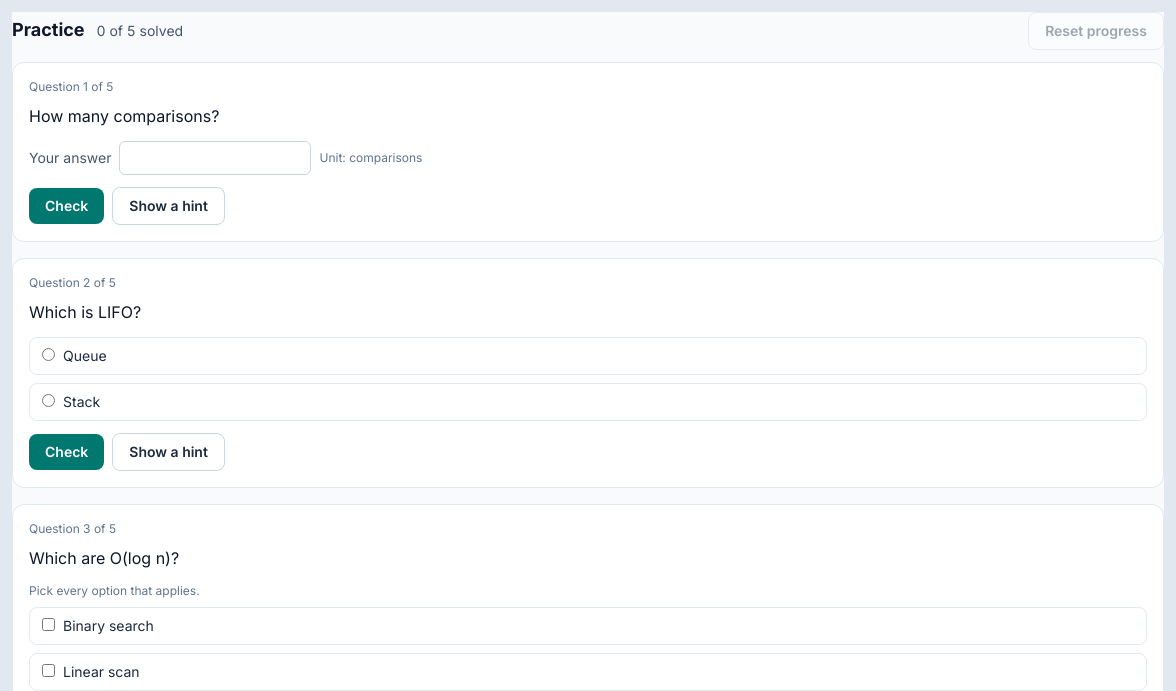
Test case: PracticeBlock › reveals hints one at a time and the solution only after a try
This screenshot has width=1176, height=691.
Step 1. Click the button "Show a hint" below "Unit: comparisons" → x=169, y=206, box x1=112 y1=187 x2=225 y2=225
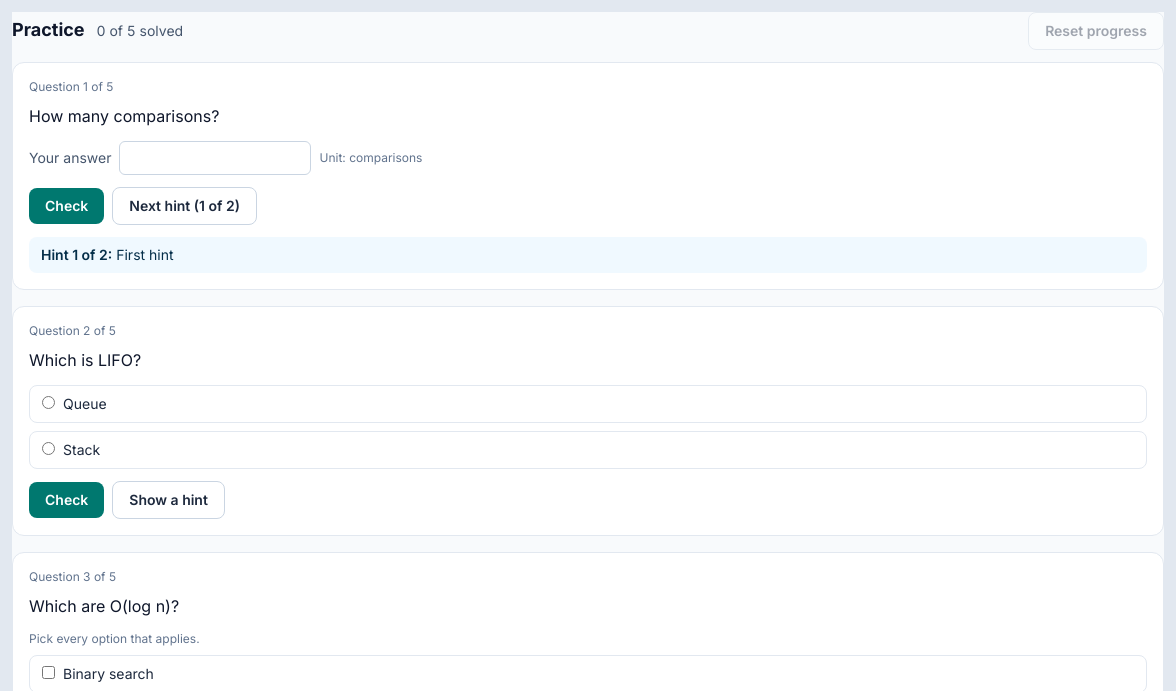
Expected: the text "Second hint" is not shown
Expected: the list item that starts with "Question 1 of 5" shows "First hint", x1=112 y1=246 x2=174 y2=263
Step 2. Click the button "Next hint (1 of 2)" → x=185, y=206, box x1=112 y1=187 x2=257 y2=225
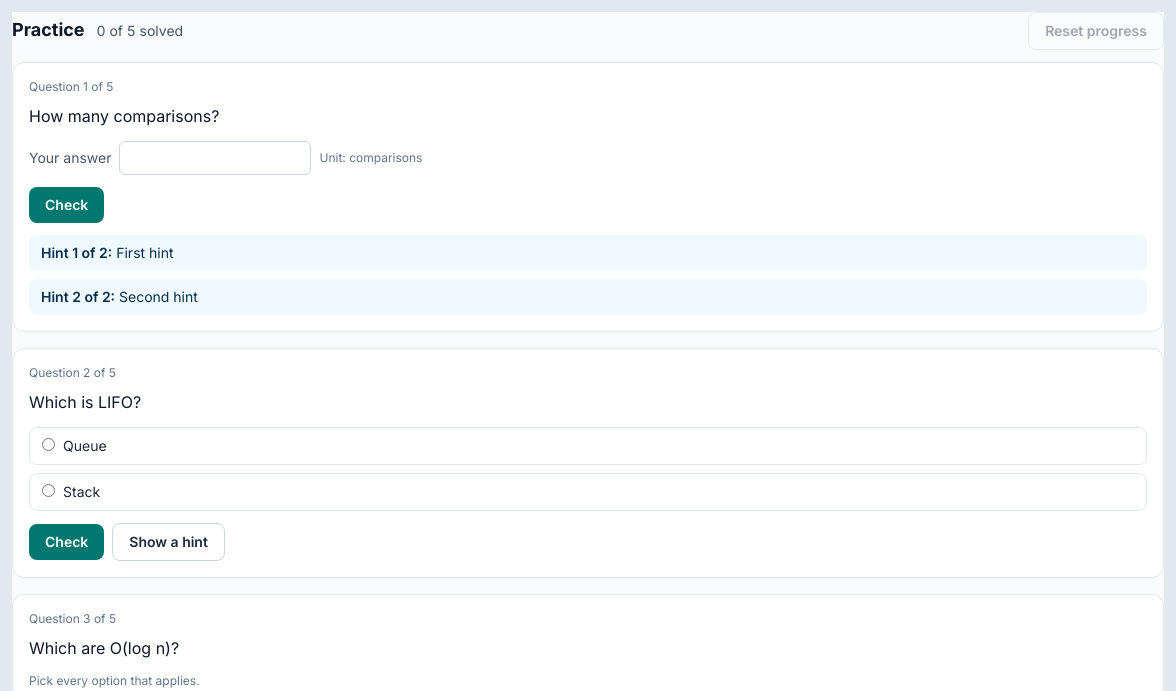
Expected: the list item that starts with "Question 1 of 5" shows "Second hint", x1=115 y1=288 x2=198 y2=305
Step 3. Type "1" into the field named "answer" → x=216, y=158, box x1=120 y1=141 x2=312 y2=175
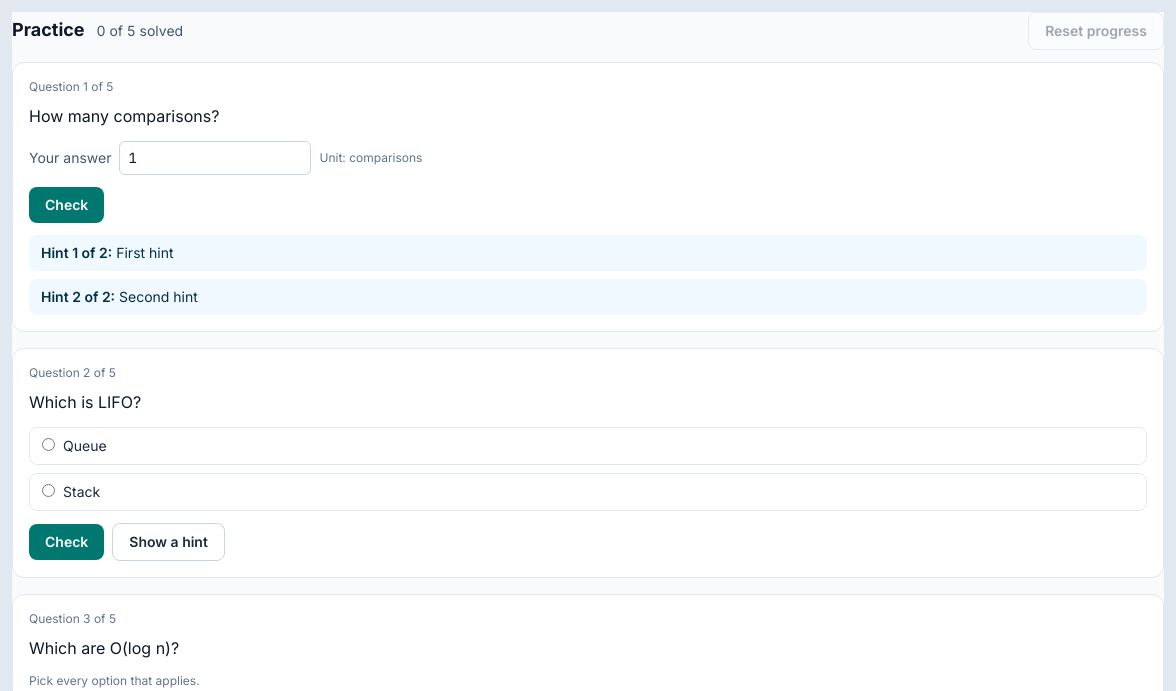
Step 4. Submit the form "Your answer Unit: comparisons Check", box x1=29 y1=141 x2=422 y2=223
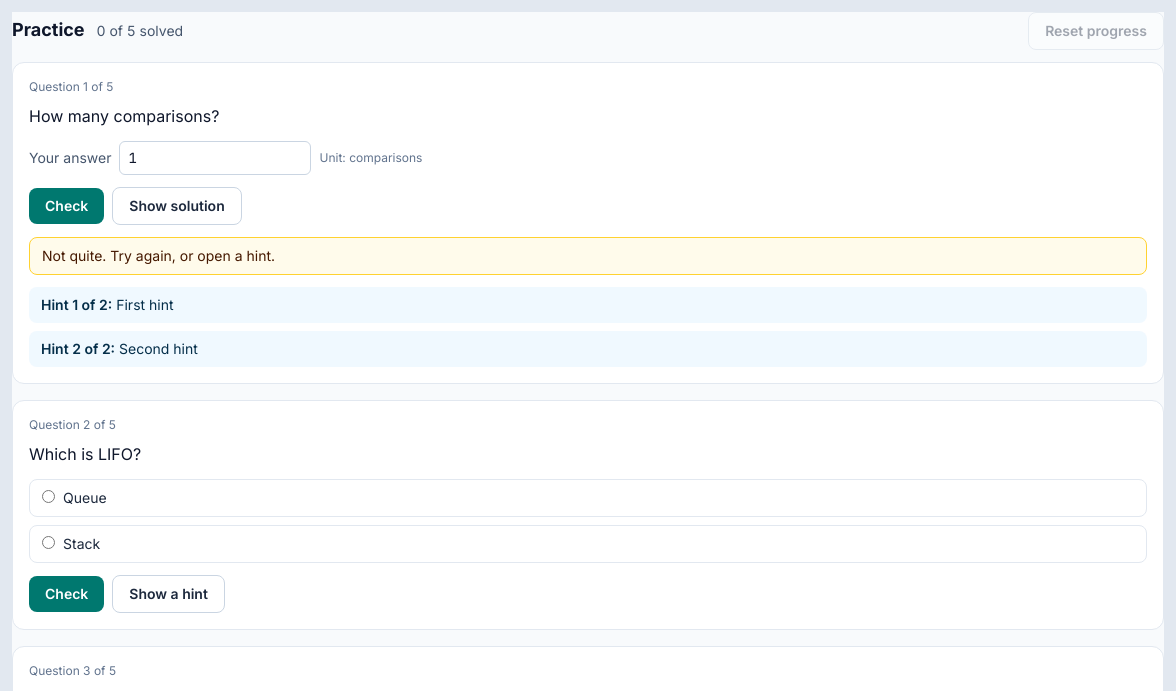
Step 5. Click the button "Show solution" → x=177, y=206, box x1=112 y1=187 x2=242 y2=225
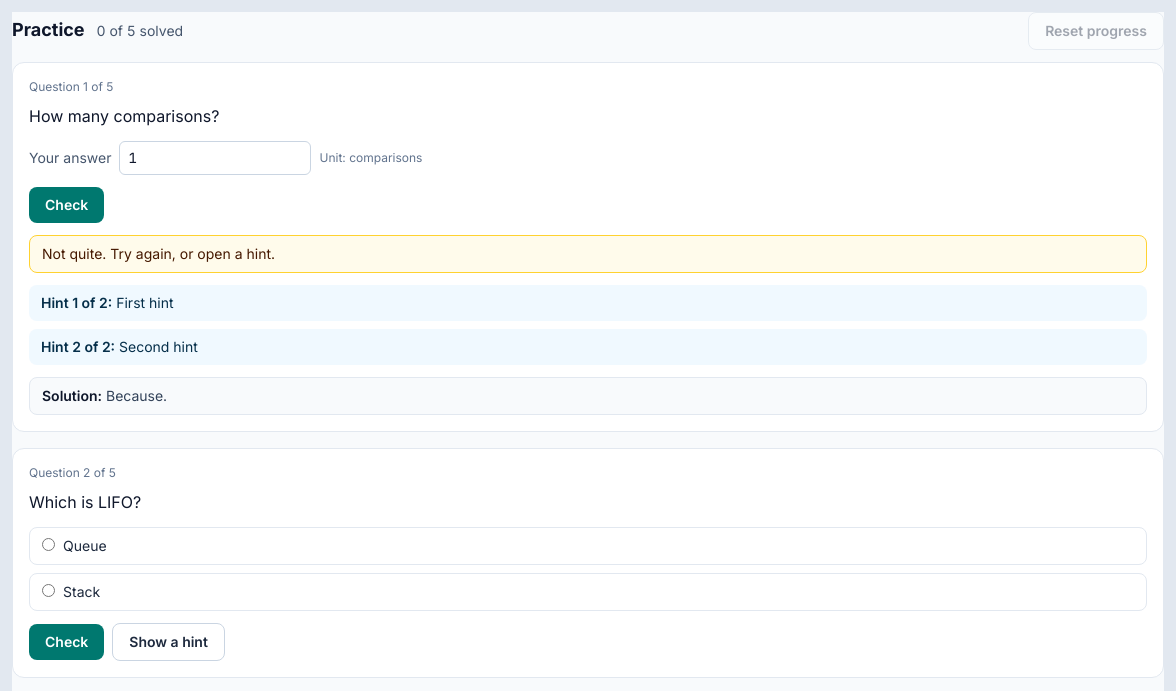
Expected: the list item that starts with "Question 1 of 5" shows "Because.", x1=106 y1=387 x2=167 y2=404
